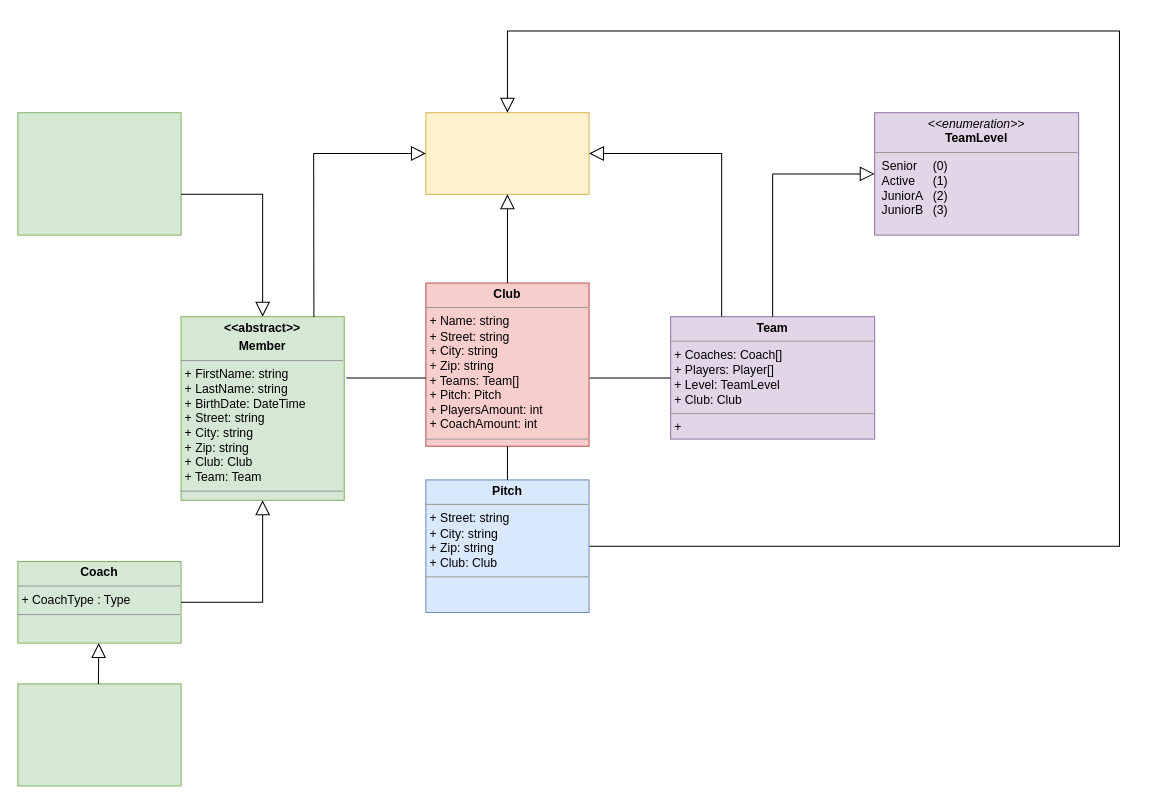
The diagram is 1152 pixels wide and 804 high, and some of its shapes have lost their labels. The box of each missing label's shape, as (x1, y1, x2, y2) in pixels:
<<enumeration>> CoachType Main, (0) Assistant, (1) Fitness (2): (17, 683, 181, 786)
Base + Id: Guid: (425, 112, 589, 194)
Player + Height: decimal + Weight: decimal + PlayerNumber: int +: (17, 112, 181, 235)
